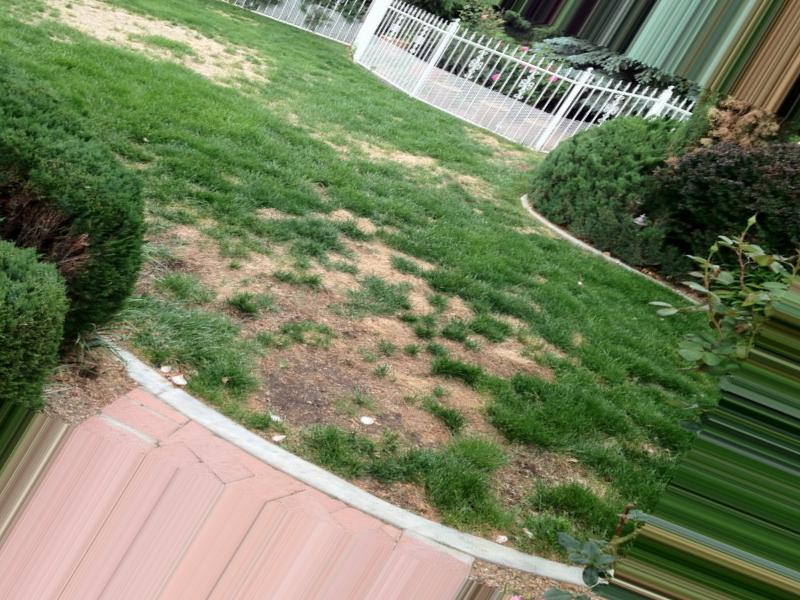patch: (277, 346, 393, 426), (289, 284, 337, 329), (357, 260, 406, 287), (404, 378, 424, 440), (216, 264, 262, 290), (356, 313, 403, 331), (483, 352, 522, 373), (447, 382, 472, 408), (259, 360, 269, 411), (197, 234, 219, 254), (354, 243, 387, 255), (187, 220, 200, 246)
